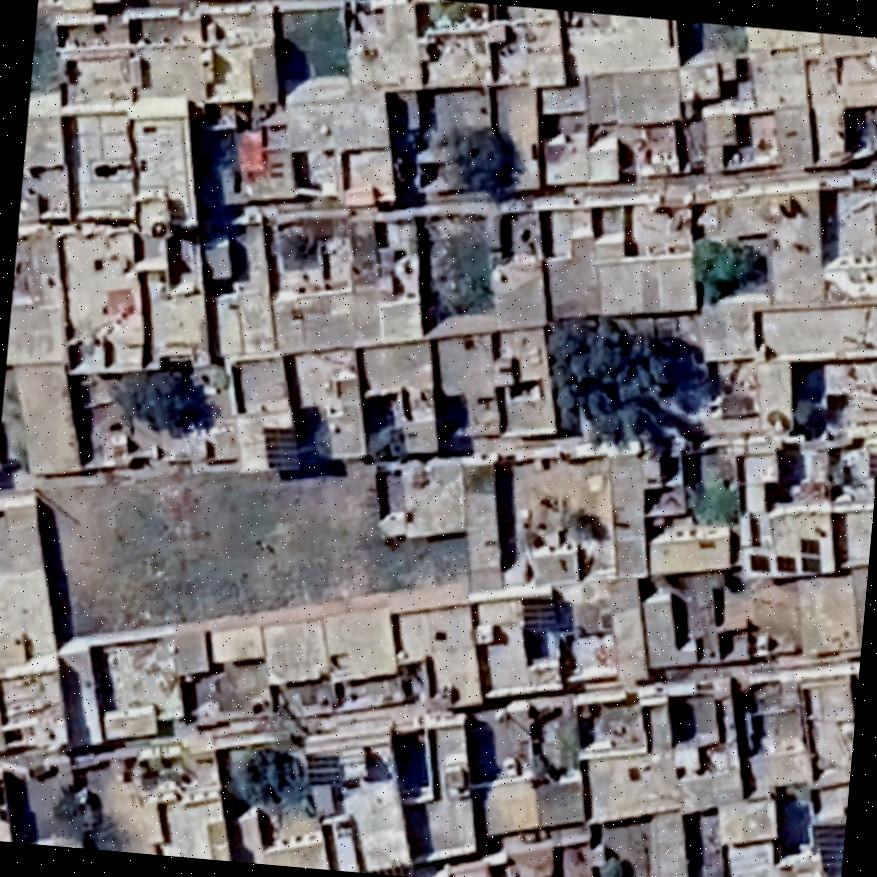Solarpanel: (253, 418, 310, 477), (513, 589, 565, 638), (806, 817, 845, 877), (794, 535, 826, 577), (303, 753, 344, 785), (745, 550, 774, 574), (773, 552, 800, 576)
